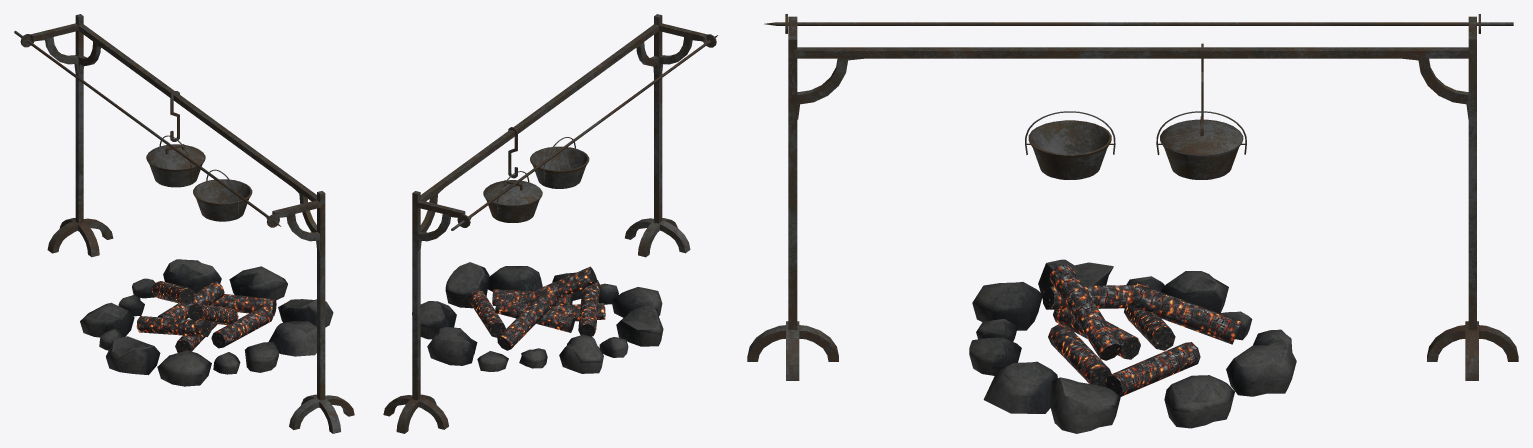
File: fireplace_lowpoly_-_pbr.glb
The picture shows the model from 3 angles, left to right: view 1: azimuth 30°, elevation 25°; view 2: azimuth 150°, elevation 25°; view 3: azimuth 270°, elevation 25°; orthographic projection. The views are drawn at different scales.
Parts seen in each view (by area): view 1: pCube118, pCylinder31, polySurface192, polySurface182; view 2: pCube118, pCylinder31, polySurface192, polySurface182; view 3: pCube118, pCylinder31, polySurface192, polySurface182.
Boxes of the visible parts, left/top/right/bottom form: pCube118: left=80, top=259, right=333, bottom=386; pCylinder31: left=14, top=14, right=354, bottom=433; polySurface192: left=146, top=135, right=205, bottom=187; polySurface182: left=193, top=169, right=252, bottom=221; pCube118: left=412, top=262, right=663, bottom=373; pCylinder31: left=383, top=14, right=717, bottom=433; polySurface192: left=483, top=171, right=542, bottom=222; polySurface182: left=530, top=137, right=589, bottom=188; pCube118: left=969, top=259, right=1296, bottom=433; pCylinder31: left=747, top=14, right=1518, bottom=380; polySurface192: left=1156, top=111, right=1246, bottom=179; polySurface182: left=1025, top=111, right=1115, bottom=179.
Size of the model in its own units: 1.28 by 1.27 by 2.77.
1 material, 1 textured.
